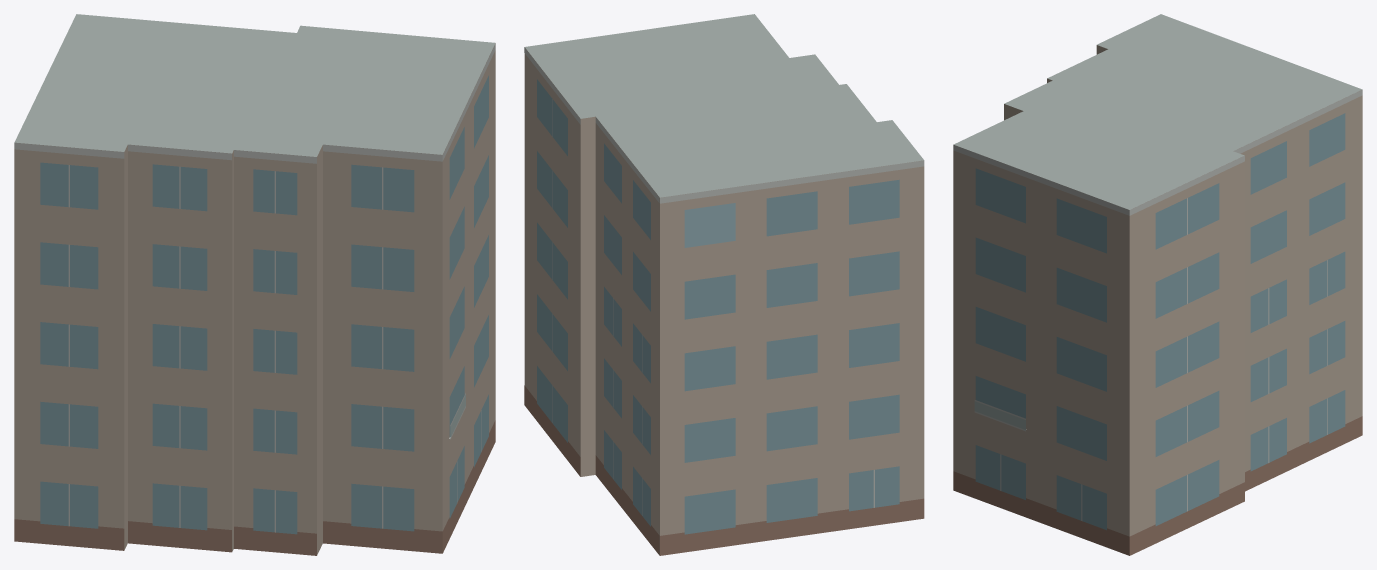
Rendered from survey-upis-32609272.glb.
3 renders of one model, left to right at view 1: azimuth 30°, elevation 25°; view 2: azimuth 150°, elevation 25°; view 3: azimuth 270°, elevation 25°, orthographic. The views are drawn at different scales.
Parts seen in each view (by area): view 1: survey-upis-32609272.tmp; view 2: survey-upis-32609272.tmp; view 3: survey-upis-32609272.tmp.
Part boxes in pixels (<box>): survey-upis-32609272.tmp: <box>14,14,495,555</box>; survey-upis-32609272.tmp: <box>524,14,924,555</box>; survey-upis-32609272.tmp: <box>953,14,1362,555</box>.
Bounding box in the file's own units: 17.51 × 14.4 × 15.45.
